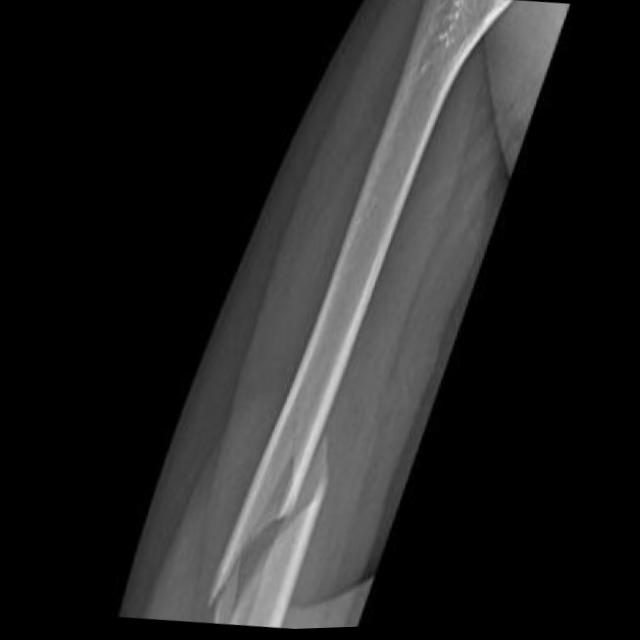fracture: (192, 404, 342, 634)
